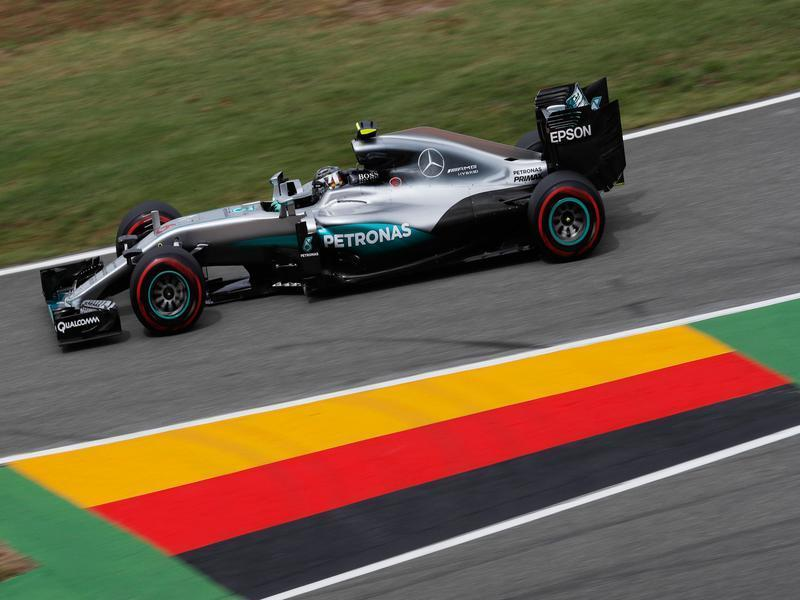f1: (36, 89, 632, 353)
